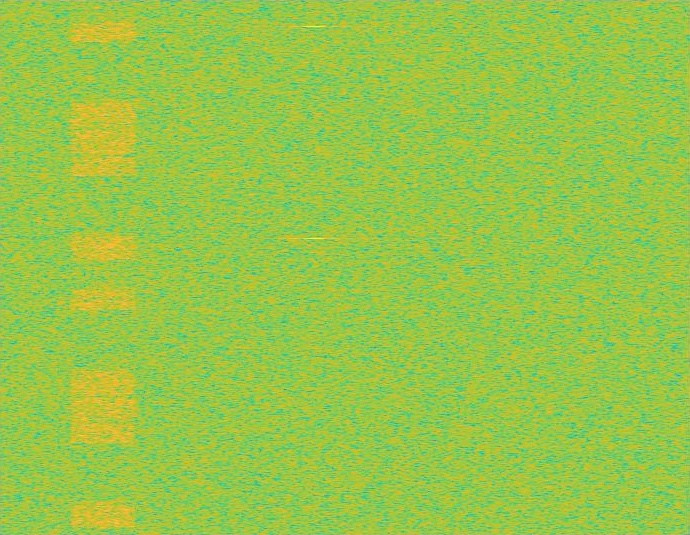LTE: (69, 0, 138, 534)
Radar: (308, 0, 322, 534)
